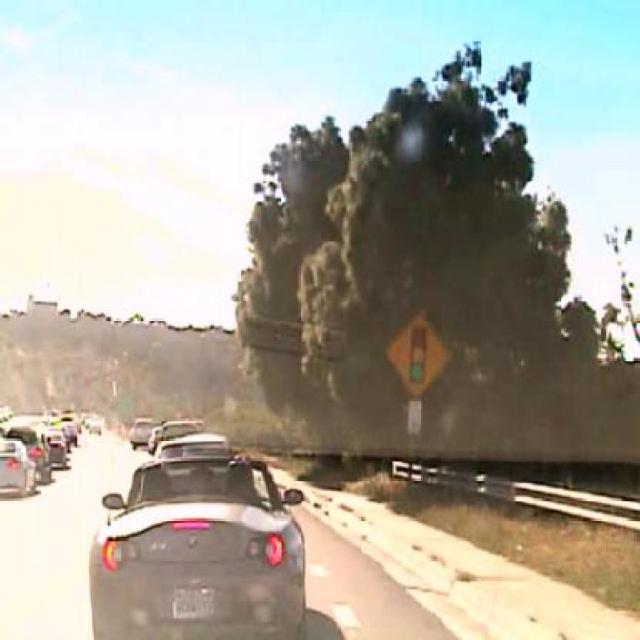signalAhead: (386, 308, 448, 397)
